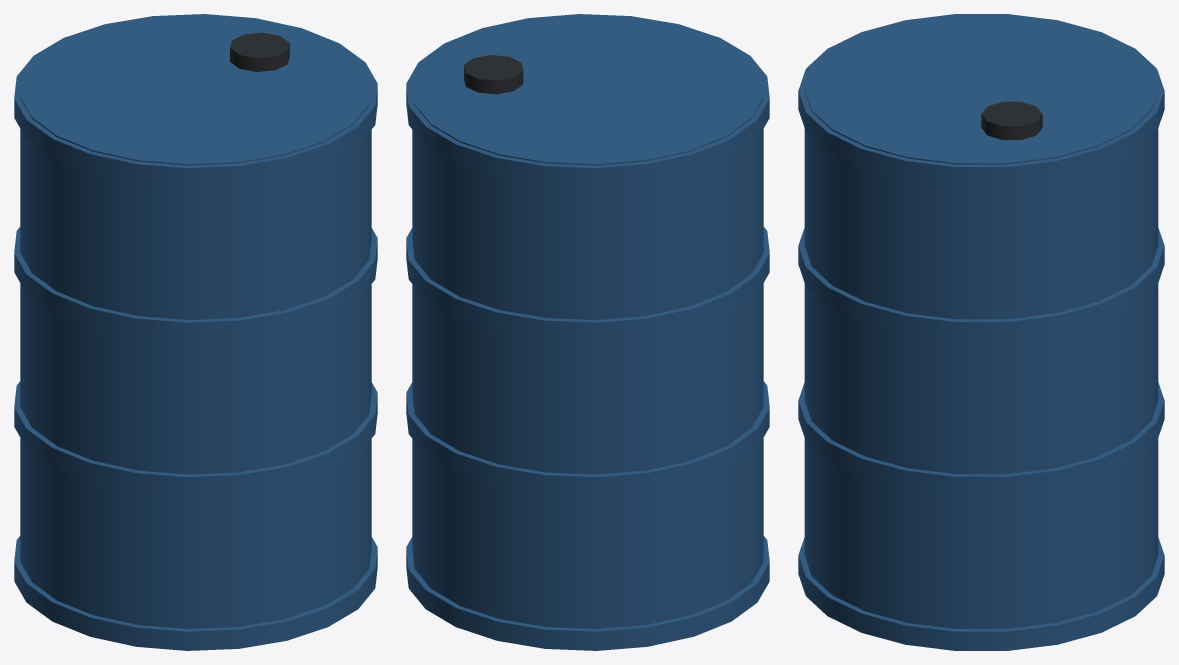
The model's file is tambor_azul.glb.
The picture shows the model from 3 angles, left to right: view 1: azimuth 30°, elevation 25°; view 2: azimuth 150°, elevation 25°; view 3: azimuth 270°, elevation 25°; orthographic projection.
Visible parts, largest first — view 1: tambor_azul; view 2: tambor_azul; view 3: tambor_azul.
Part boxes in pixels (bbox=[...]): tambor_azul: bbox=[14, 14, 377, 650]; tambor_azul: bbox=[406, 14, 769, 650]; tambor_azul: bbox=[798, 14, 1164, 650].
Bounding box in the file's own units: 0.5939 × 0.905 × 0.6.
